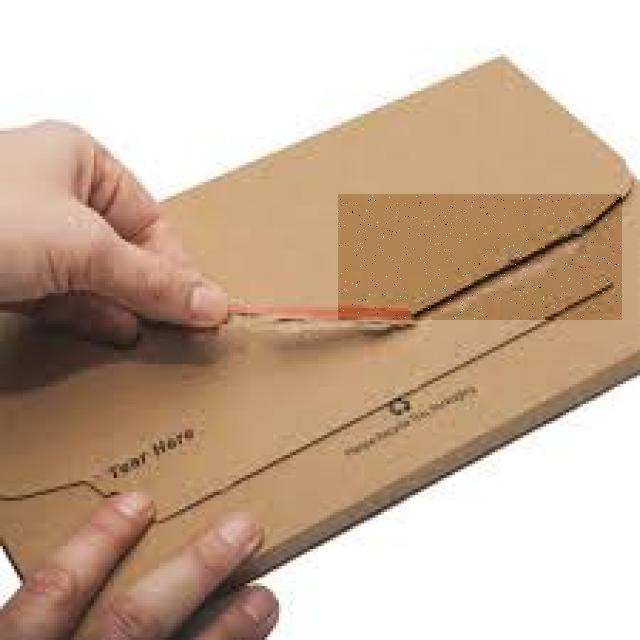tear: (338, 195, 621, 319)
